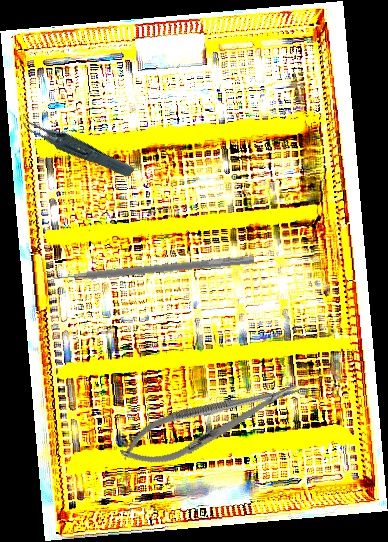Needle Holder: (114, 367, 306, 478)
Spatula Surgical: (43, 246, 255, 286)
Tissue Forceps: (18, 92, 136, 198)
